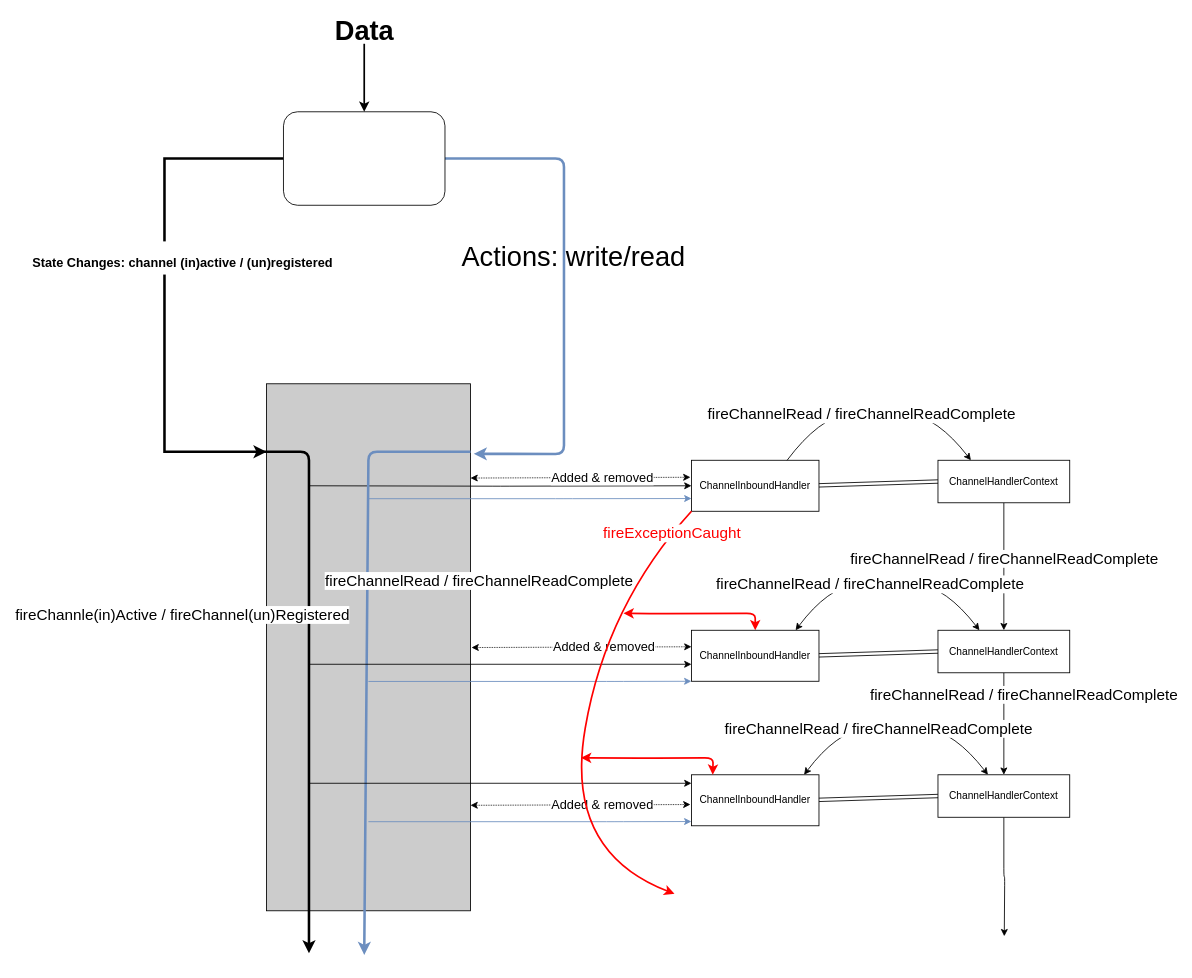
Some shapes in this 1192 by 978 pixel diagram are drawn without their labels. Here are the shapes that lost their labels. From the top down, the box of each, then its label:
(283, 111, 445, 205): Channel
(266, 383, 470, 911): ChannelPipeline
